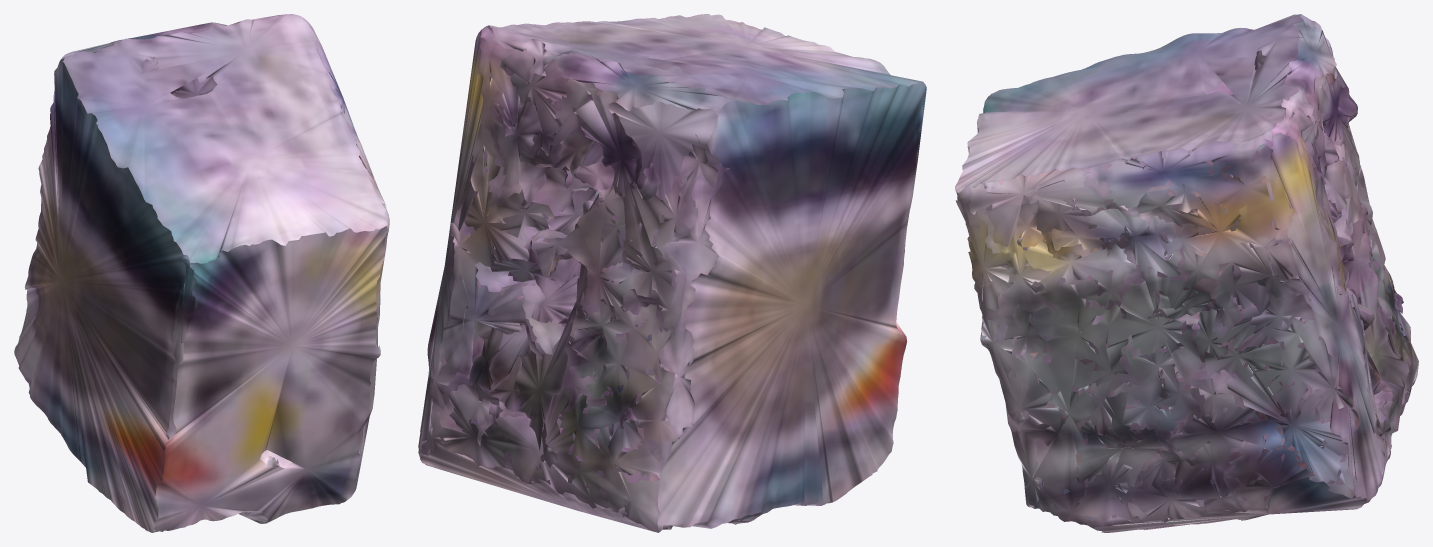
Rendered from 2_magnet.glb.
3 renders of one model, left to right at view 1: azimuth 30°, elevation 25°; view 2: azimuth 150°, elevation 25°; view 3: azimuth 270°, elevation 25°, orthographic. The views are drawn at different scales.
Parts seen in each view (by area): view 1: 2_magnet; view 2: 2_magnet; view 3: 2_magnet.
Part boxes in pixels (x1,y1,x2,y2): 2_magnet: (14, 14, 389, 532); 2_magnet: (418, 14, 926, 532); 2_magnet: (955, 14, 1418, 532).
Bounding box in the file's own units: 0.5382 × 0.77 × 0.7375.
Materials: 1 (1 with a texture image).
